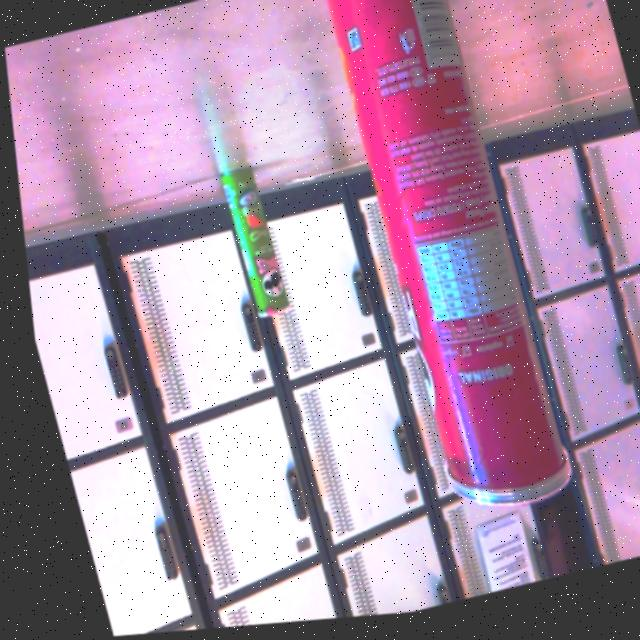greenpringles: (191, 147, 303, 343)
redpringles: (271, 0, 593, 554)
